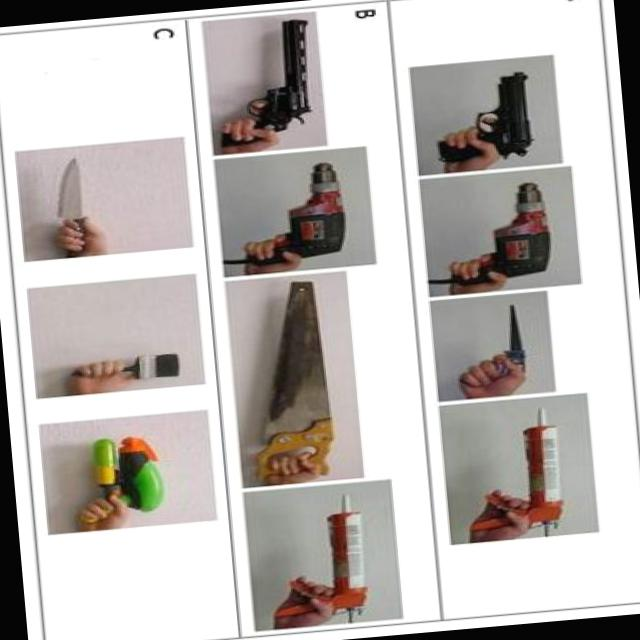handgun: (211, 16, 323, 148), (419, 70, 546, 164)
